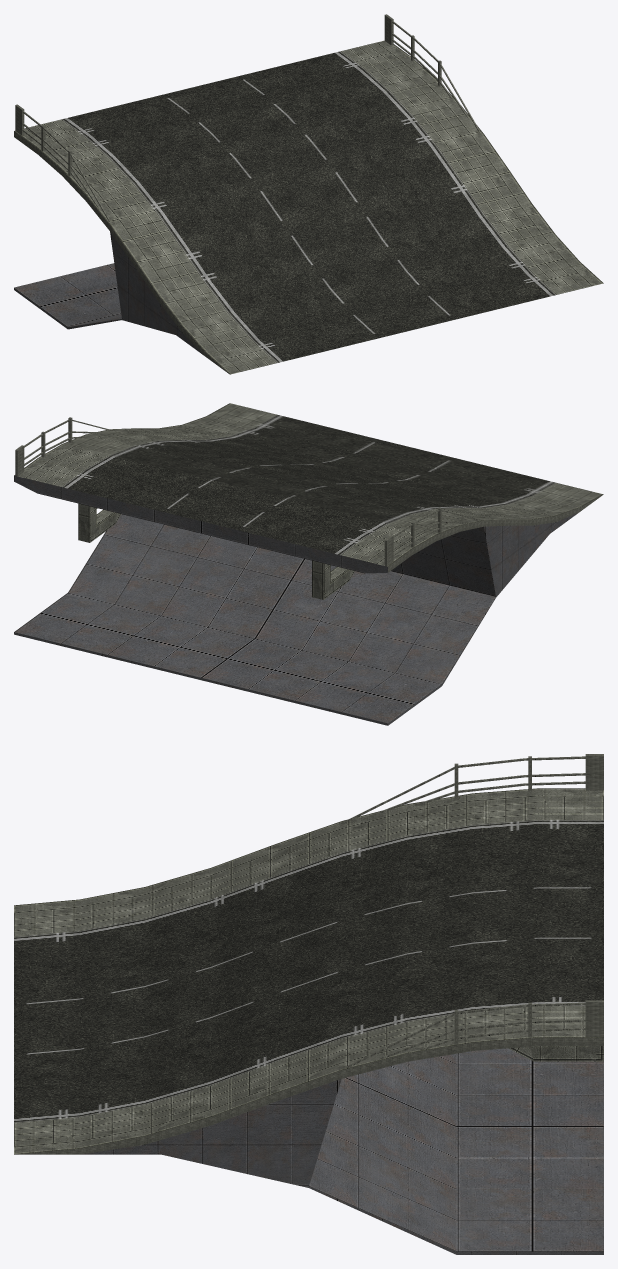
The model's file is ibbstrLT00.FBX.
3 renders of one model, top to bottom at view 1: azimuth 30°, elevation 25°; view 2: azimuth 150°, elevation 25°; view 3: azimuth 270°, elevation 25°, orthographic. The views are drawn at different scales.
Visible parts, largest first — view 1: ibbstr00; view 2: ibbstr00; view 3: ibbstr00.
Part boxes in pixels (box(x1,y1,x2,y2)): ibbstr00: box(14, 14, 603, 374); ibbstr00: box(14, 403, 603, 725); ibbstr00: box(14, 754, 603, 1254).
Size of what is drawn, in the model's own units: 32 by 32 by 15.1.
